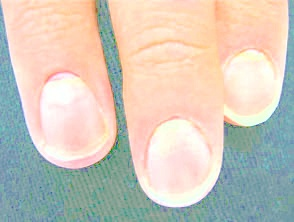SJS-TEN: (122, 91, 238, 222), (15, 56, 125, 179), (215, 24, 294, 135)
